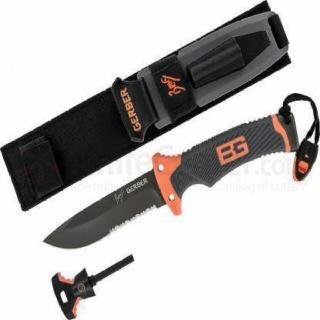knife: (38, 171, 168, 257)
